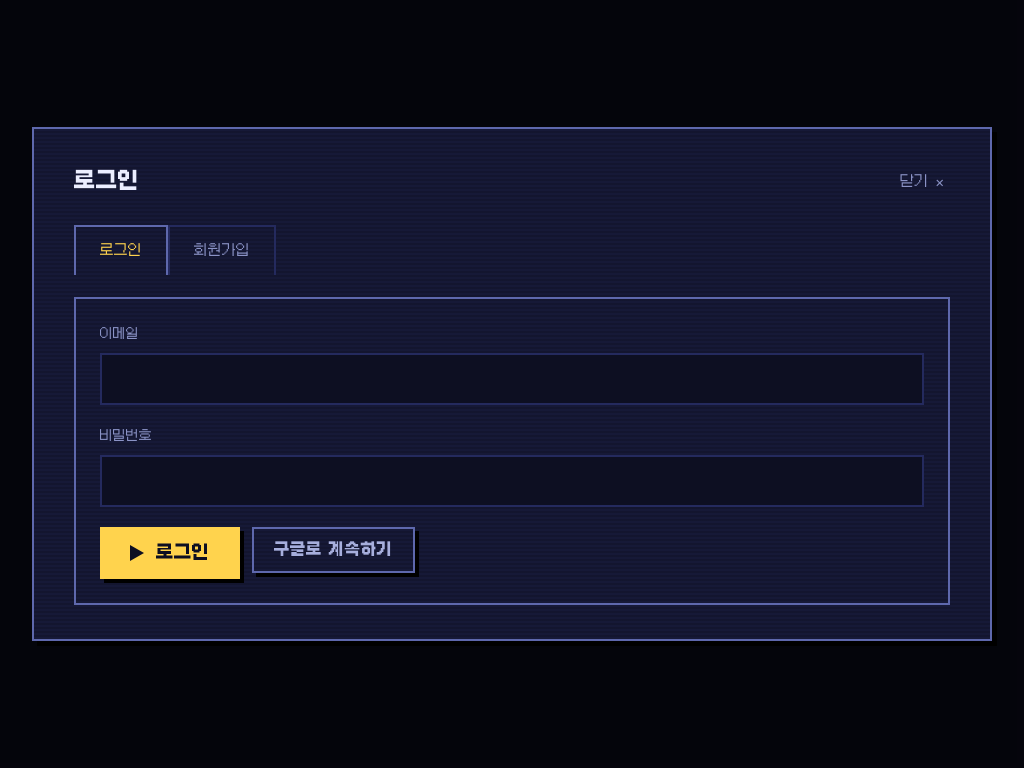
Scenario: AuthModal — 회원가입 › 입력을 떠나면 중복을 미리 알려 준다
Click the button "회원가입": click(222, 250) top-left (168, 225), bottom-right (276, 274)
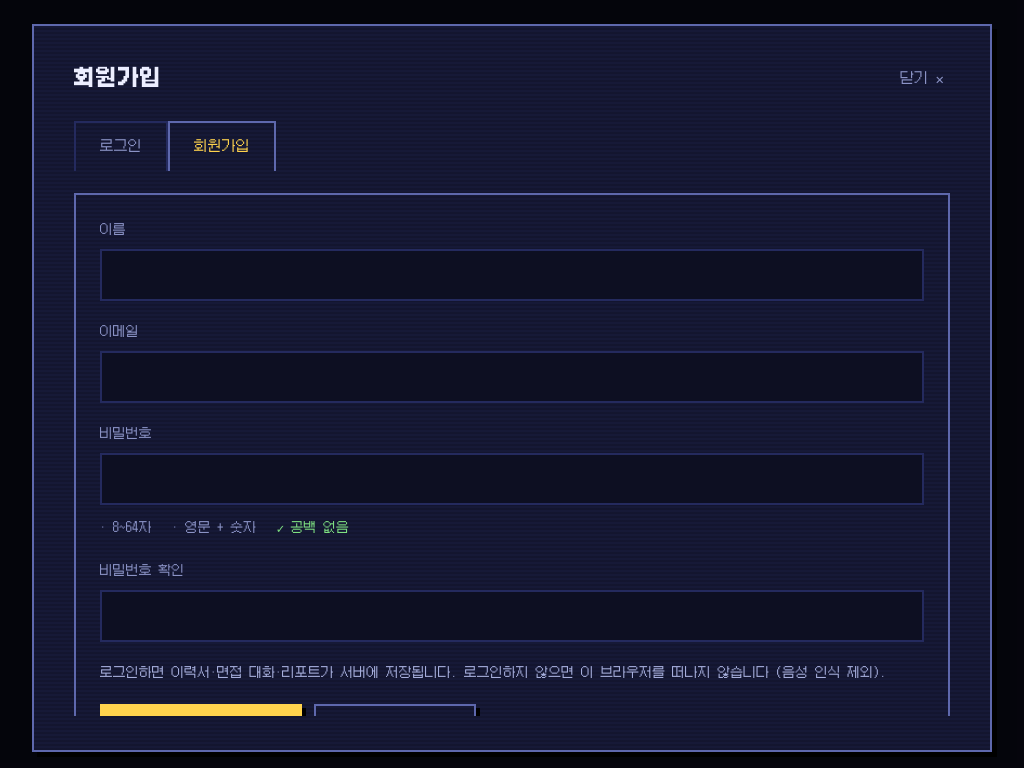
In the field labelled "이메일": (512, 377) top-left (100, 351), bottom-right (924, 403), type "a@b.com"
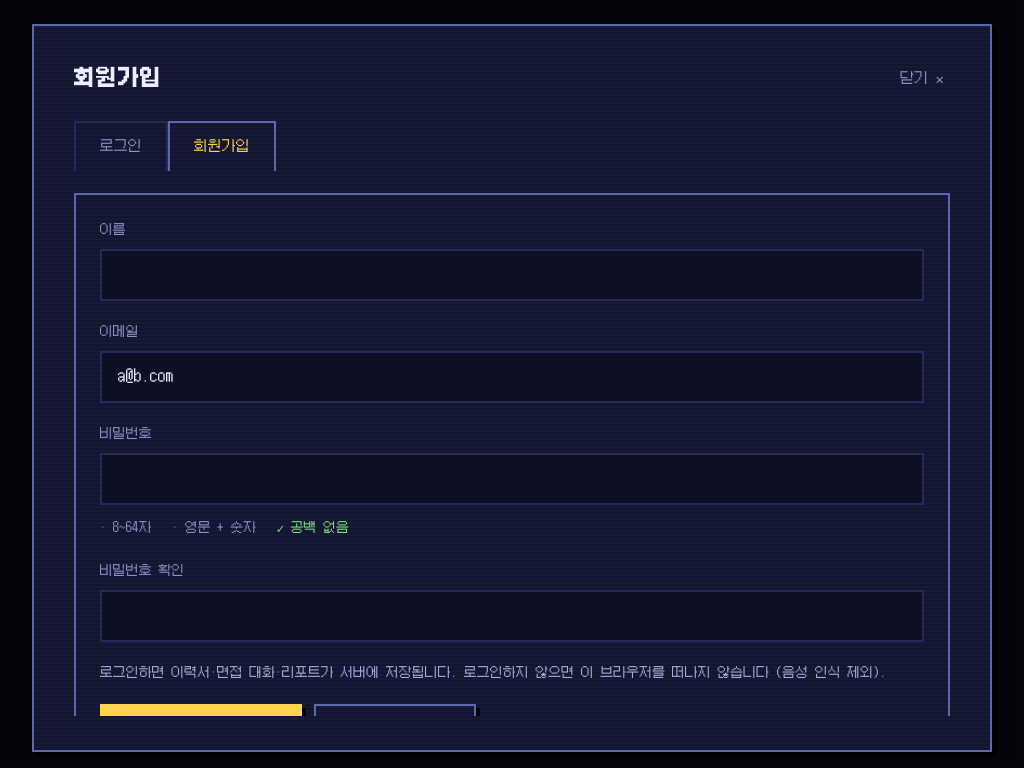
Leave the field labelled "이메일", box top-left (100, 351), bottom-right (924, 403)
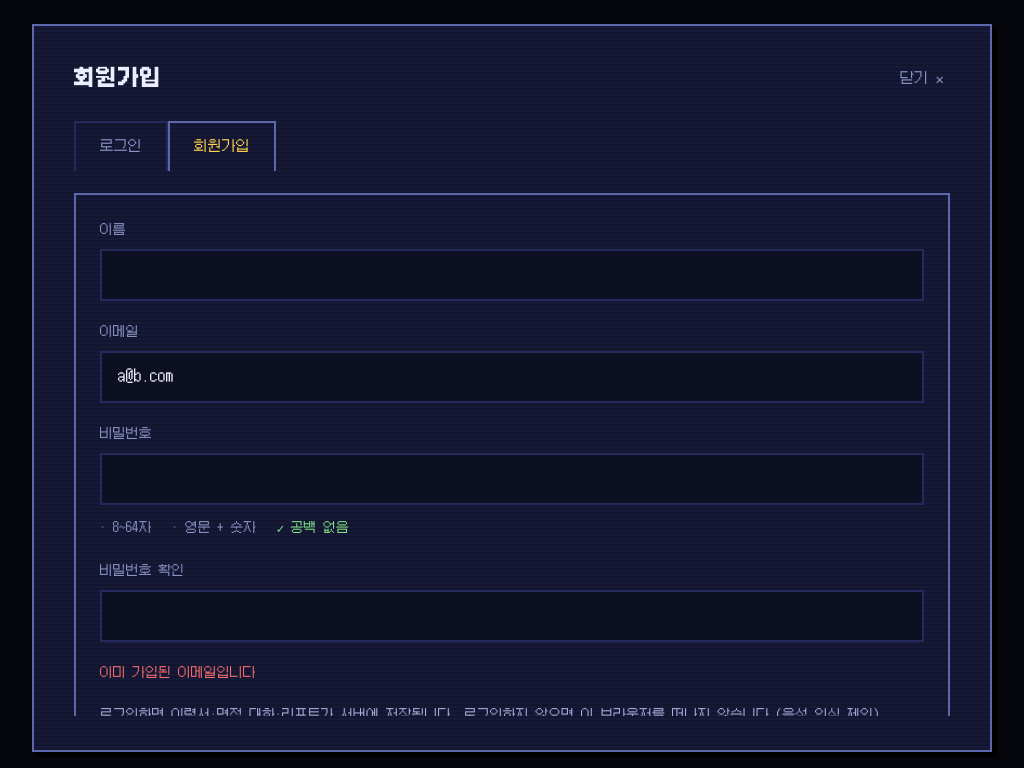
Expected: the text with test id "auth-error" shows "이미 가입된", top-left (100, 665), bottom-right (256, 680)
